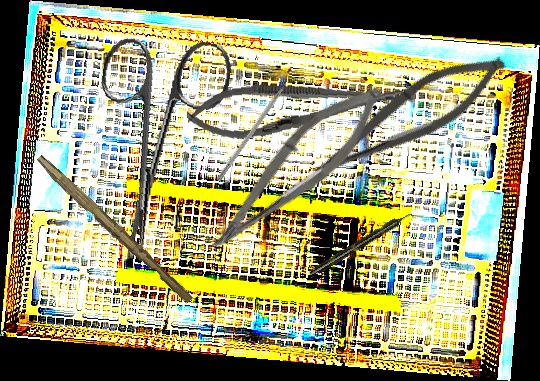Handpiece: (307, 209, 415, 279)
Hook Surgical: (215, 69, 298, 183)
Iris Scissors: (75, 27, 235, 267)
Micro Scissor: (199, 67, 397, 273), (302, 33, 517, 203)
Needle Holder: (184, 68, 406, 147)
Scalpel Handle: (31, 154, 197, 305)
